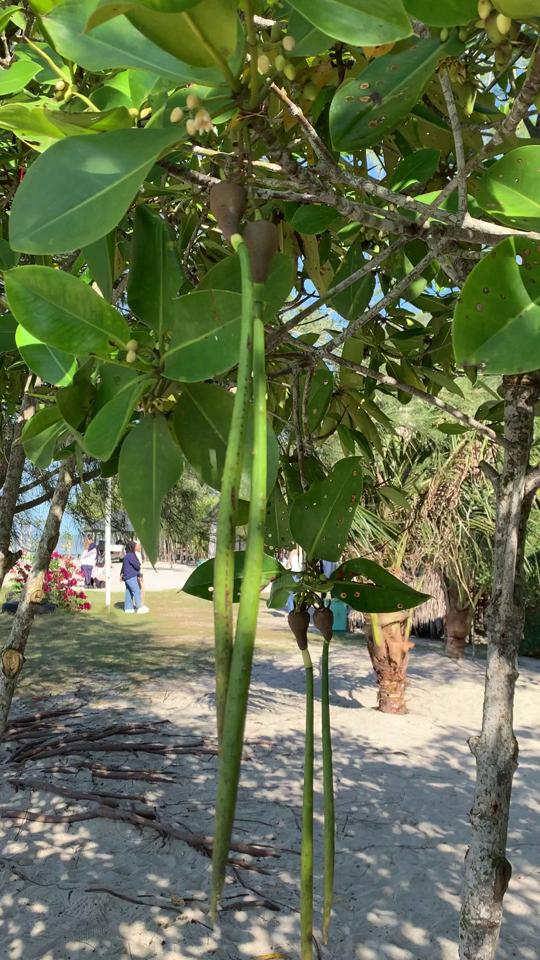setengah matang: (198, 167, 261, 736)
